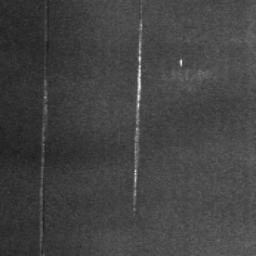Bright scratch: (39, 0, 49, 256), (132, 0, 143, 216)
